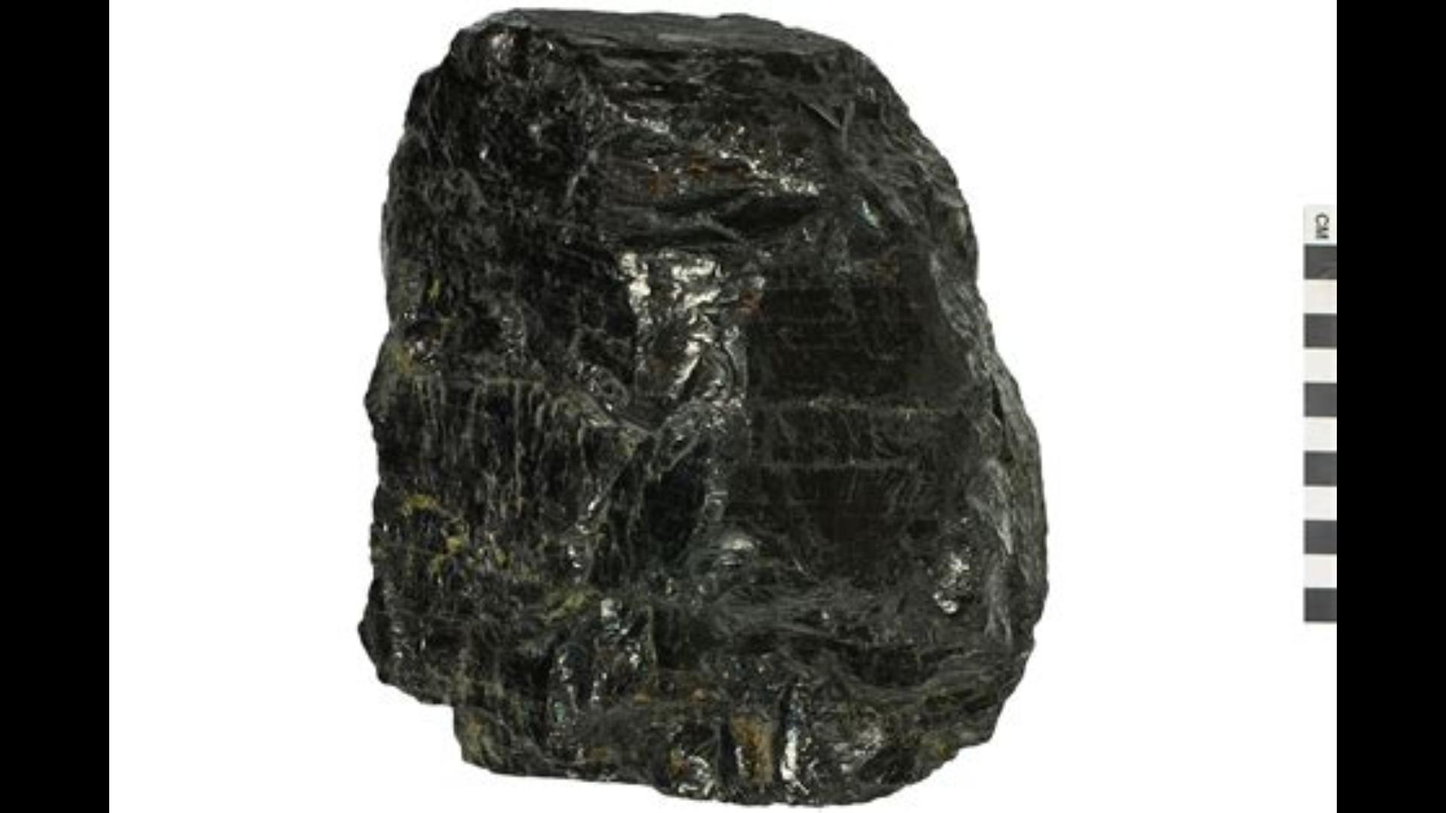rock: (360, 10, 1044, 797)
